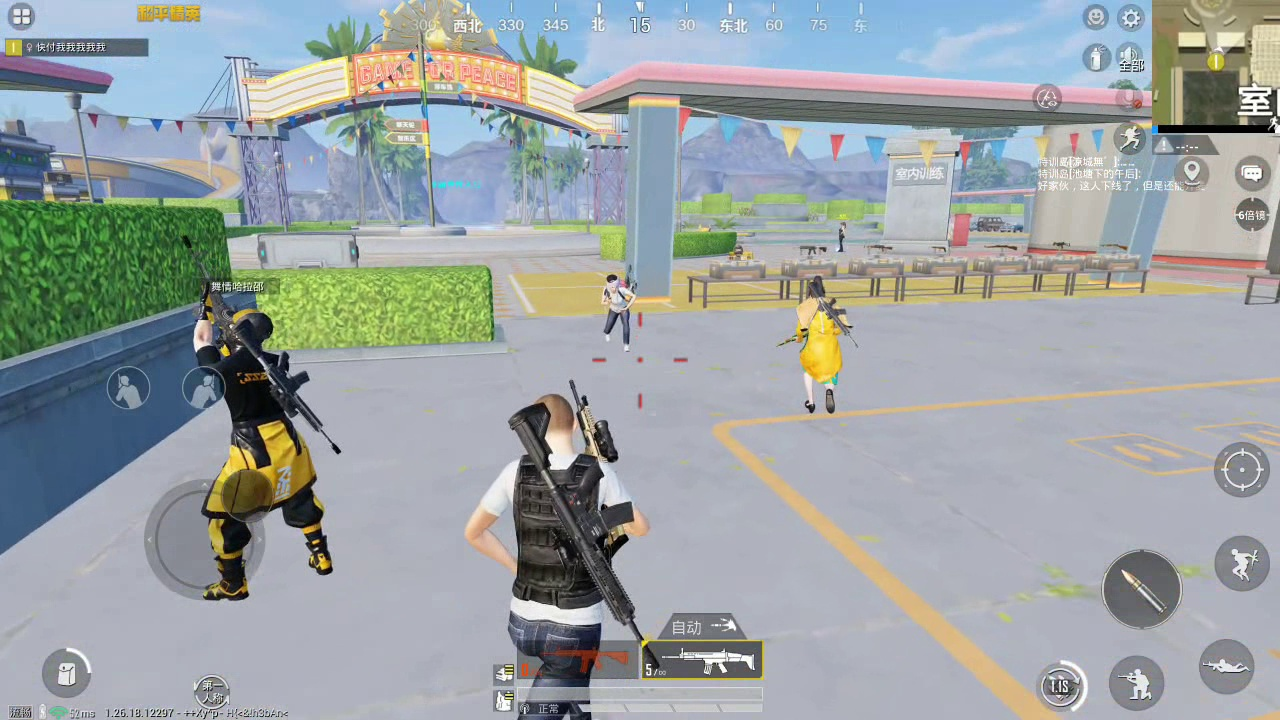enemy: (203, 309, 335, 598), (792, 278, 841, 416), (599, 274, 635, 347)
